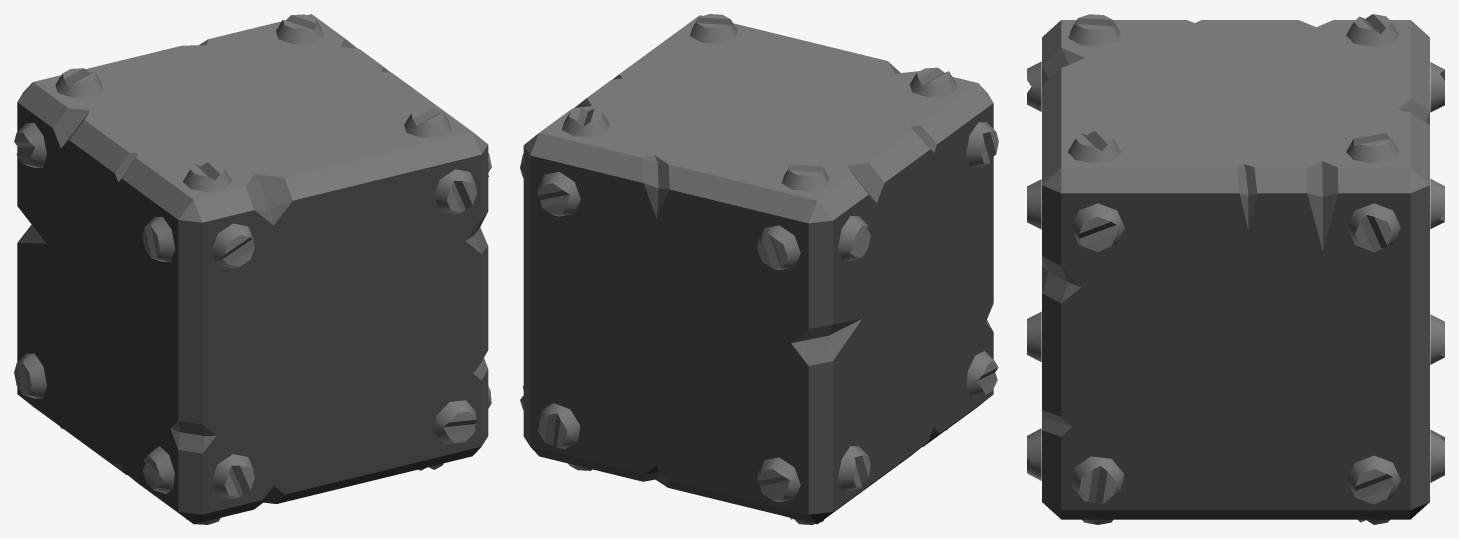
File: m_kub_metalOld_cubeBig.FBX
3 views of the same model, side by side, from view 1: azimuth 30°, elevation 25°; view 2: azimuth 150°, elevation 25°; view 3: azimuth 270°, elevation 25° (orthographic). The views are drawn at different scales.
Parts seen in each view (by area): view 1: m_kub_metalOld_cubeBig; view 2: m_kub_metalOld_cubeBig; view 3: m_kub_metalOld_cubeBig.
Part boxes in pixels (x1,y1,x2,y2): m_kub_metalOld_cubeBig: [14, 14, 491, 524]; m_kub_metalOld_cubeBig: [520, 14, 998, 524]; m_kub_metalOld_cubeBig: [1027, 14, 1444, 524].
Size of the model in its own units: 2.15 by 2.15 by 2.15.
